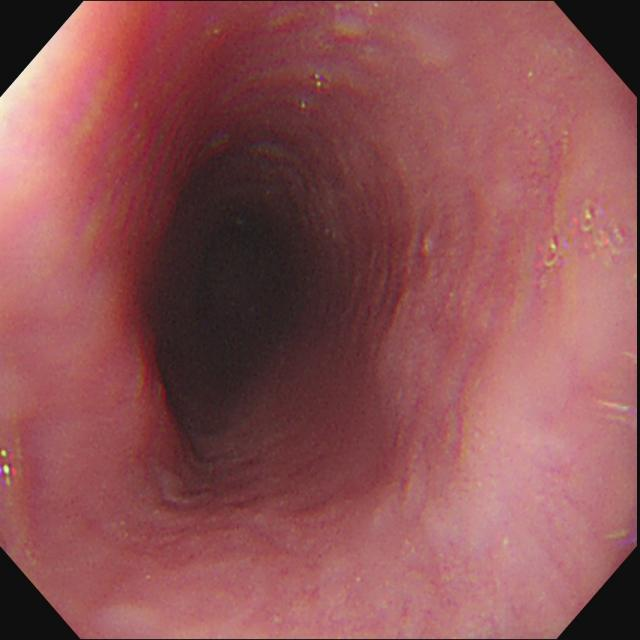E: (199, 228, 286, 361)
